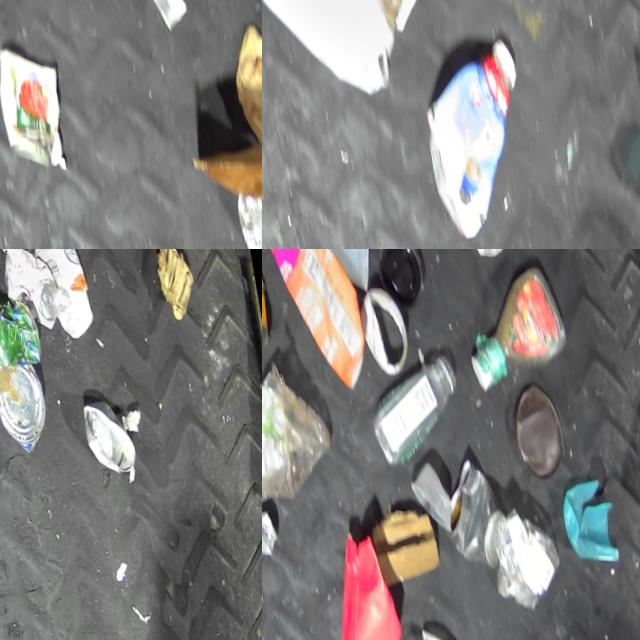can: (0, 24, 71, 170), (433, 436, 504, 563), (0, 355, 52, 452), (78, 392, 138, 476), (0, 249, 62, 329), (0, 290, 41, 367), (229, 167, 262, 249), (119, 0, 191, 37)
milk_jug: (262, 0, 403, 108)
non_white_jug: (262, 249, 375, 398)
